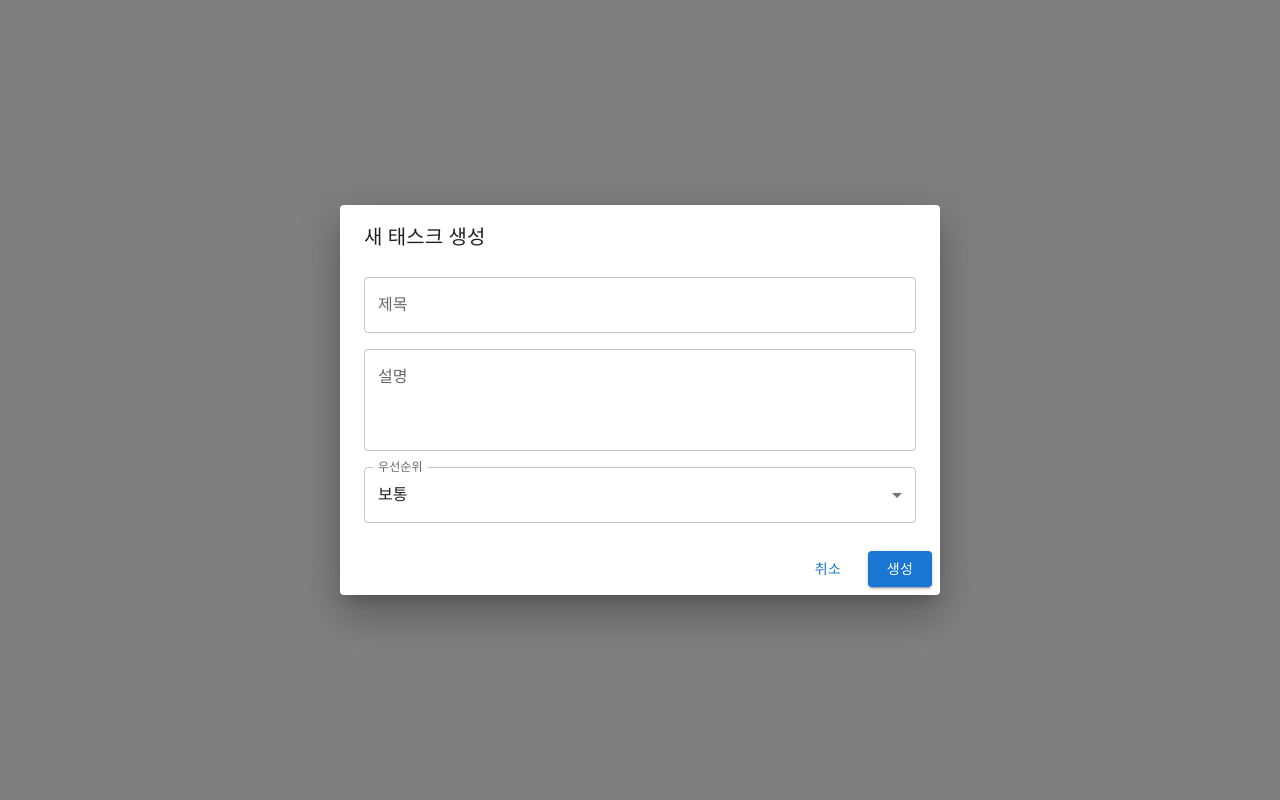
Scenario: CreateTaskModal › 제목 없이 제출하면 에러가 표시된다
Click the button "생성": (900,569) x1=868 y1=551 x2=932 y2=587
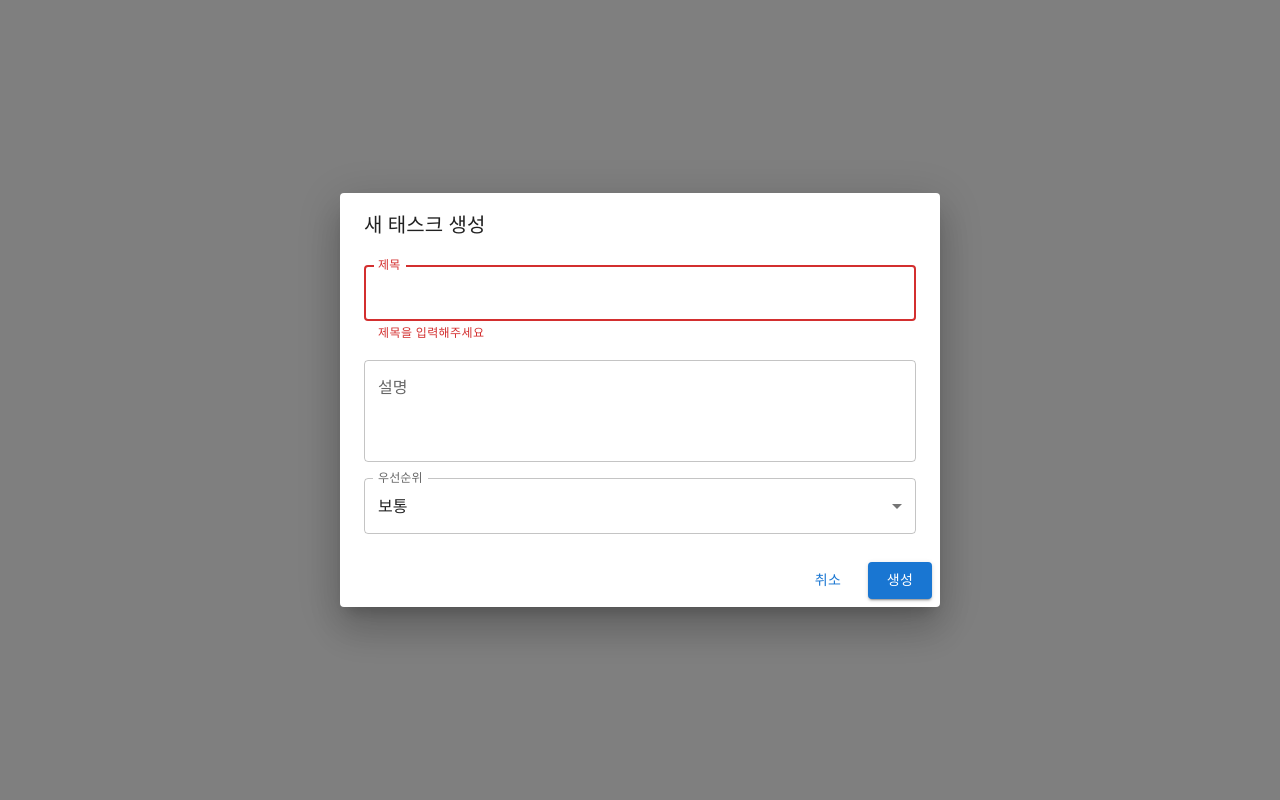
Now the text "제목을 입력해주세요" is shown, box x1=378 y1=326 x2=484 y2=340
